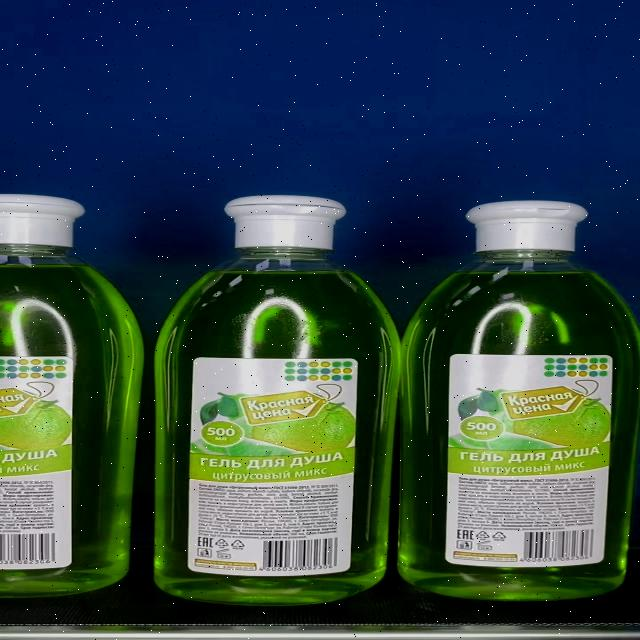Bottle: (156, 196, 402, 604), (401, 200, 640, 601)
Cap: (465, 200, 589, 253), (223, 196, 346, 249)
